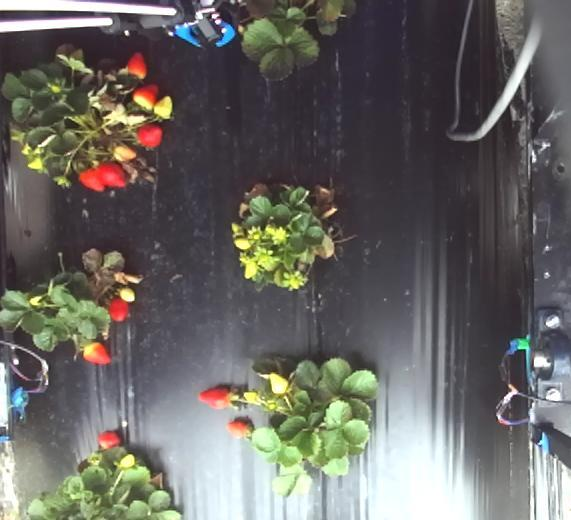mature: (98, 161, 129, 190), (200, 387, 233, 411), (135, 122, 163, 149), (81, 160, 105, 191), (131, 83, 158, 110), (81, 341, 111, 365), (126, 51, 147, 80), (107, 296, 129, 322), (227, 418, 253, 440), (98, 429, 119, 453)
